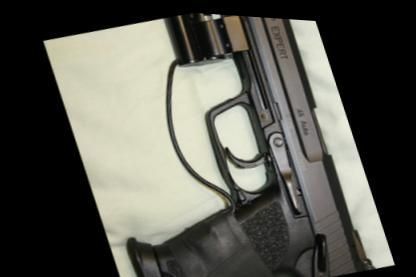pistol: (58, 3, 381, 275)
